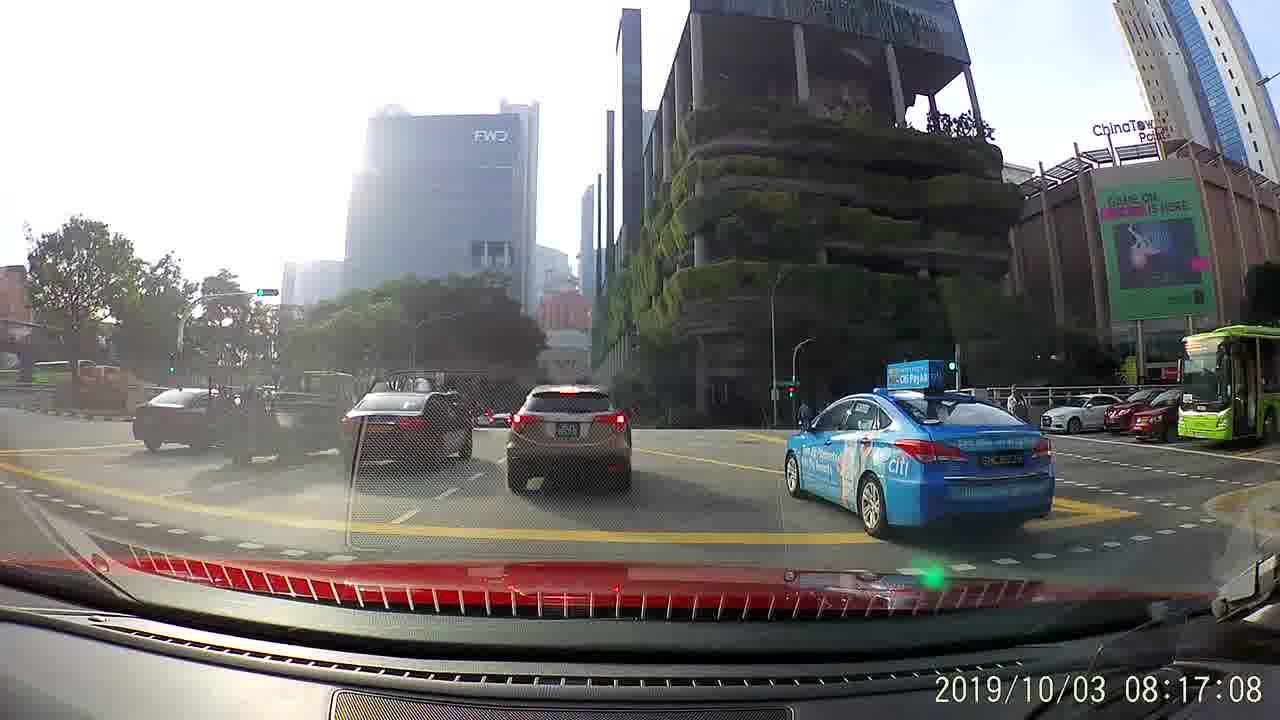bus: (1173, 316, 1279, 446), (30, 358, 92, 394)
car: (782, 356, 1055, 542), (508, 385, 629, 495), (338, 382, 475, 472), (132, 382, 224, 453), (1042, 391, 1124, 431), (1107, 386, 1165, 430), (1135, 389, 1184, 441), (489, 411, 513, 430)
